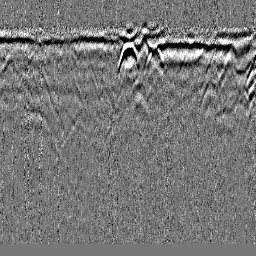cavity: (117, 39, 140, 73)
